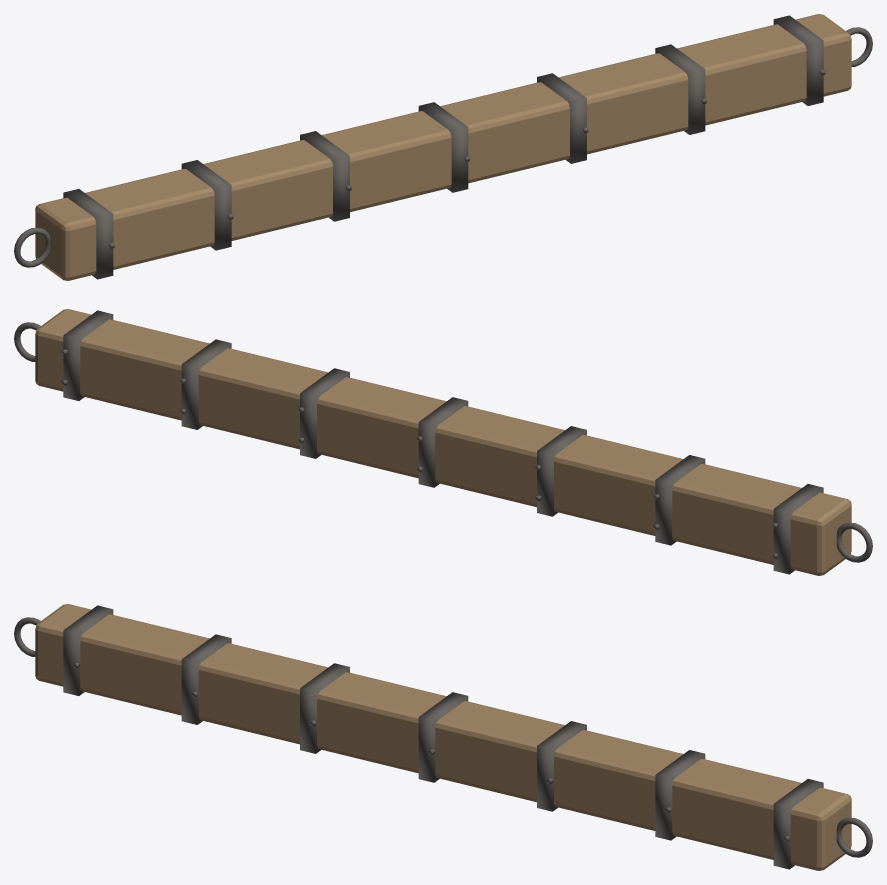
The model's file is bolt.glb.
The picture shows the model from 3 angles, top to bottom: view 1: azimuth 30°, elevation 25°; view 2: azimuth 150°, elevation 25°; view 3: azimuth 330°, elevation 25°; orthographic projection.
Visible parts, largest first — view 1: bolt_beam, bolt_iron; view 2: bolt_beam, bolt_iron; view 3: bolt_beam, bolt_iron.
Boxes of the visible parts, x1=… form: bolt_beam: x1=35, y1=14, x2=851, y2=280; bolt_iron: x1=14, y1=15, x2=872, y2=279; bolt_beam: x1=35, y1=309, x2=851, y2=575; bolt_iron: x1=14, y1=310, x2=872, y2=574; bolt_beam: x1=35, y1=604, x2=851, y2=870; bolt_iron: x1=14, y1=605, x2=872, y2=869.
Bounding box in the file's own units: 6.52 × 0.45 × 0.49.
